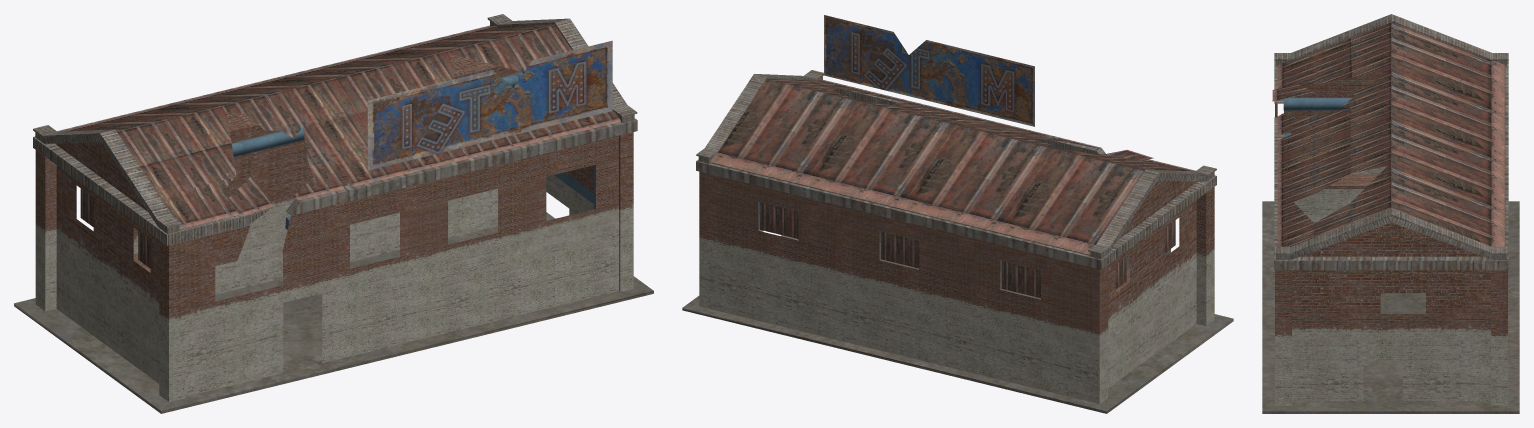
File: Building_HeiygcFz09_2048_lod2.glb
3 views of the same model, side by side, from view 1: azimuth 30°, elevation 25°; view 2: azimuth 150°, elevation 25°; view 3: azimuth 270°, elevation 25° (orthographic). The views are drawn at different scales.
Parts seen in each view (by area): view 1: xiutz_heiygc_fz_09_lod2; view 2: xiutz_heiygc_fz_09_lod2; view 3: xiutz_heiygc_fz_09_lod2.
Part boxes in pixels (x1=…): xiutz_heiygc_fz_09_lod2: x1=14, y1=14, x2=653, y2=413; xiutz_heiygc_fz_09_lod2: x1=682, y1=15, x2=1233, y2=413; xiutz_heiygc_fz_09_lod2: x1=1262, y1=14, x2=1519, y2=413.
Size of the model in its own units: 39.19 by 19.19 by 20.27.
1 material, 1 textured.
